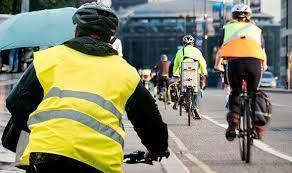Vest: (25, 44, 129, 168)
